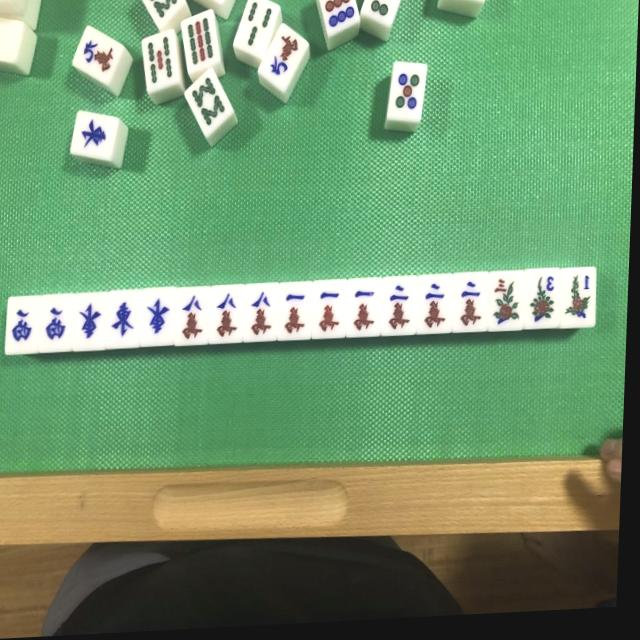east: (74, 295, 109, 352), (109, 292, 143, 348), (142, 290, 176, 346)
f1: (563, 266, 595, 326)
f3: (526, 269, 563, 328)
ff3: (490, 274, 526, 329)
m1: (313, 281, 348, 340), (347, 278, 382, 337), (279, 283, 313, 341)
m2: (382, 277, 418, 336), (417, 275, 453, 334), (452, 274, 489, 331)
m8: (244, 283, 280, 342), (210, 284, 245, 342), (176, 289, 211, 346)
west: (7, 296, 42, 354), (42, 295, 74, 353)
